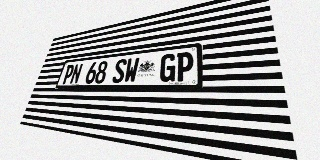6: (84, 62, 99, 84)
8: (94, 61, 109, 84)
G: (159, 53, 177, 82)
N: (69, 63, 83, 84)
P: (175, 51, 194, 81), (61, 64, 75, 84)
S: (111, 59, 127, 83)
W: (123, 57, 140, 83)
